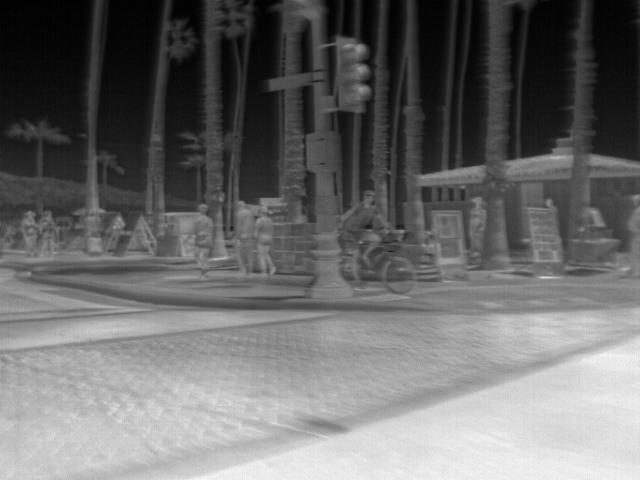person: (338, 188, 388, 282), (252, 205, 278, 276), (232, 200, 256, 276), (190, 202, 213, 274), (622, 193, 639, 278), (466, 195, 486, 258), (35, 209, 58, 262), (21, 207, 40, 260), (543, 197, 561, 223)
